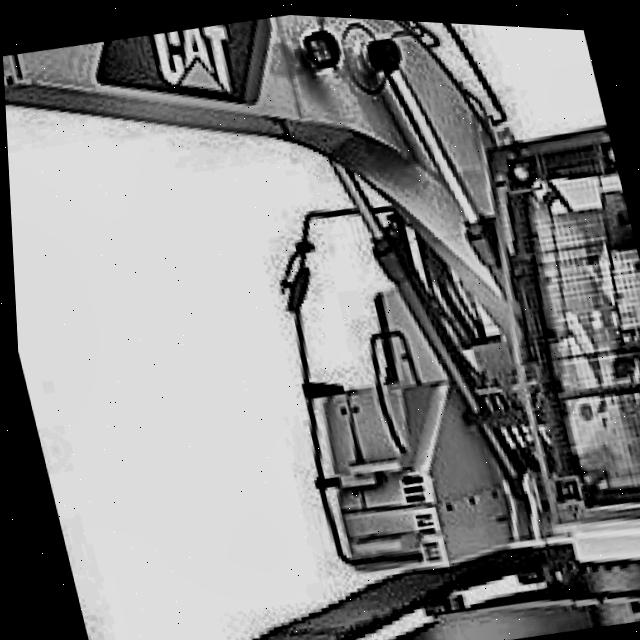excavator: (132, 81, 640, 640)
